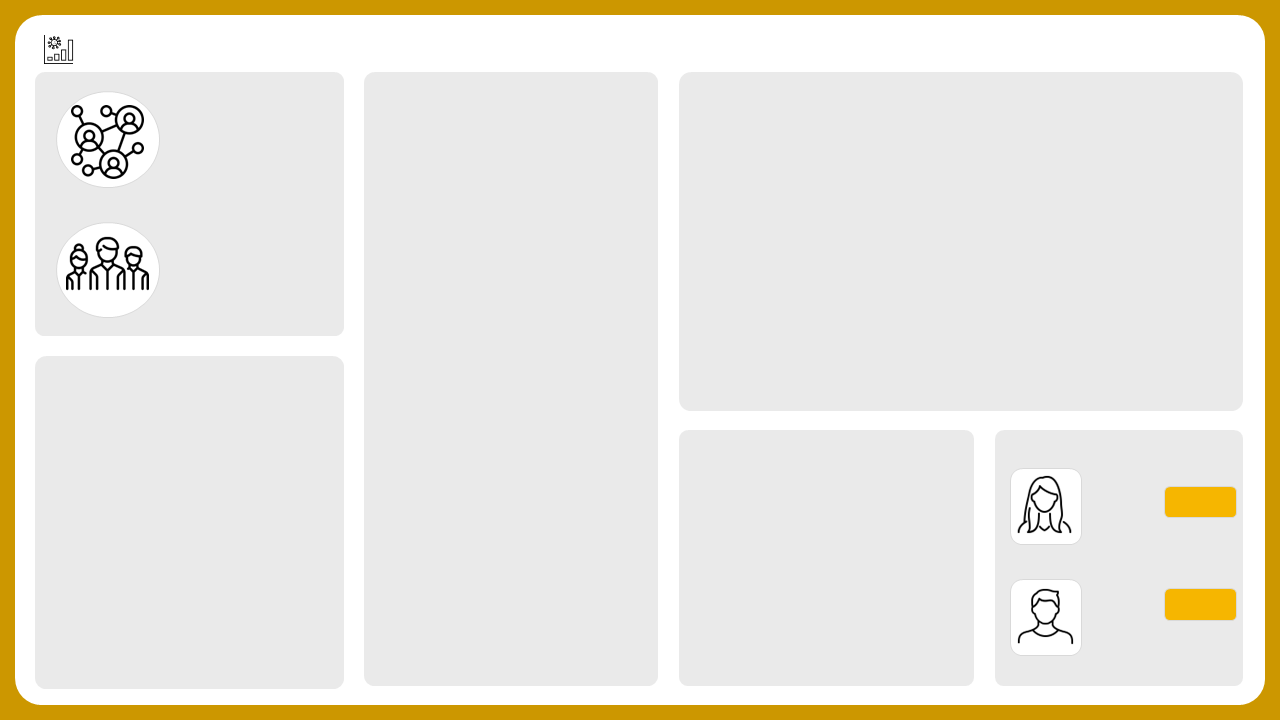

The dashboard page shown, as its layout file describes it:
{"tool":"powerbi","page":{"name":"CustomerPerformance Dashboard","canvas":[1280,720],"ordinal":0},"visuals":[{"type":"clusteredColumnChart","fields":{"Category":["DimCustomer.Age Category"],"Y":["All Measures.Total Revenue"]},"box":[690,141.4,548.6,257.1],"z":0},{"type":"card","fields":{"Values":["Customer Measures.Avg Caption"]},"box":[680,85,558.8,96.2],"z":1000},{"type":"textbox","box":[709.5,85.7,373,42.9],"z":2000},{"type":"donutChart","fields":{"Y":["Customer Measures.% CWC","Customer Measures.% Customer Without Children"]},"box":[407.8,74.4,190,151.1],"z":3000},{"type":"donutChart","fields":{"Y":["Customer Measures.% CWC","Customer Measures.% Customer Without Children"]},"box":[407.1,360,191.4,152.9],"z":4000},{"type":"card","fields":{"Values":["Customer Measures.% Customer Without Children"]},"box":[456.7,126.7,93.3,46.7],"z":5000},{"type":"card","fields":{"Values":["Customer Measures.% CWC"]},"box":[455.7,414.3,92.9,44.3],"z":6000},{"type":"textbox","box":[381.2,216.9,260,43.1],"z":7000},{"type":"textbox","box":[393.3,504.4,235.6,42.2],"z":8000},{"type":"card","fields":{"Values":["Customer Measures.Caption Customers with Children"]},"box":[363.8,224.4,295,150],"z":9000},{"type":"card","fields":{"Values":["Customer Measures.Caption Customers Without  Children"]},"box":[362.5,503.8,295,167.5],"z":10000},{"type":"clusteredBarChart","fields":{"Category":["DimCustomer.Customer Type"],"Y":["All Measures.Total Revenue"]},"box":[690,426.7,275,270],"z":11000},{"type":"clusteredBarChart","fields":{"Category":["DimCustomer.Full Name"],"Y":["Customer Measures.Dynamic customer"]},"box":[37.1,414.3,301.4,282.9],"z":12000},{"type":"slicer","fields":{"Values":["Dynamic Customers.Dynamic Customers"]},"box":[271.8,365.9,58.2,48.2],"z":13000},{"type":"card","fields":{"Values":["Customer Measures.%Female"]},"box":[1157.5,480,82.5,42.5],"z":14000},{"type":"card","fields":{"Values":["Customer Measures.%Male"]},"box":[1163.5,587.3,69.8,31.7],"z":15000},{"type":"card","fields":{"Values":["Customer Measures.Average Customer Age"]},"box":[204.3,120,77.1,62.9],"z":16000},{"type":"card","fields":{"Values":["Customer Measures.#Customers"]},"box":[198.6,245.7,88.6,54.3],"z":17000},{"type":"textbox","box":[187.1,81.4,142.9,70],"z":18000},{"type":"textbox","box":[188.6,202.9,108.6,70],"z":19000},{"type":"textbox","box":[1082.9,577.1,125.7,41.4],"z":20000},{"type":"textbox","box":[1082.9,465.7,112.9,37.1],"z":21000},{"type":"textbox","box":[40,360,187.1,41.4],"z":22000},{"type":"card","fields":{"Values":["Customer Measures.Title Top Customers"]},"box":[37.1,388.6,231.4,38.6],"z":23000},{"type":"card","fields":{"Values":["Customer Measures.female Revenue"]},"box":[1083.1,490.8,73.1,31.5],"z":24000},{"type":"card","fields":{"Values":["Customer Measures.Male Revenue"]},"box":[1083.1,602.3,73.1,30.8],"z":25000},{"type":"textbox","box":[81.7,20,373.3,41.7],"z":26000},{"type":"slicer","fields":{"Values":["DimGeography.Country"]},"box":[1029.1,30.9,210.9,61.8],"z":27000},{"type":"textbox","box":[1034.5,20,122.7,31.8],"z":28000},{"type":"textbox","box":[690,426.7,186.7,41.7],"z":29000},{"type":"textbox","box":[1010,426.7,223.3,38.3],"z":30000}]}

Visuals, with their boxes in screenshot pixels (x1, y1, x2, y2), scaled from the page's 1280x720 canvas onto the 1280x720 screenshot:
clusteredColumnChart - DimCustomer.Age Category x All Measures.Total Revenue: <bbox>690, 141, 1239, 398</bbox>
card - Customer Measures.Avg Caption: <bbox>680, 85, 1239, 181</bbox>
textbox: <bbox>710, 86, 1082, 129</bbox>
donutChart - Customer Measures.% CWC x Customer Measures.% Customer Without Children: <bbox>408, 74, 598, 226</bbox>
donutChart - Customer Measures.% CWC x Customer Measures.% Customer Without Children: <bbox>407, 360, 598, 513</bbox>
card - Customer Measures.% Customer Without Children: <bbox>457, 127, 550, 173</bbox>
card - Customer Measures.% CWC: <bbox>456, 414, 549, 459</bbox>
textbox: <bbox>381, 217, 641, 260</bbox>
textbox: <bbox>393, 504, 629, 547</bbox>
card - Customer Measures.Caption Customers with Children: <bbox>364, 224, 659, 374</bbox>
card - Customer Measures.Caption Customers Without  Children: <bbox>362, 504, 658, 671</bbox>
clusteredBarChart - DimCustomer.Customer Type x All Measures.Total Revenue: <bbox>690, 427, 965, 697</bbox>
clusteredBarChart - DimCustomer.Full Name x Customer Measures.Dynamic customer: <bbox>37, 414, 338, 697</bbox>
slicer - Dynamic Customers.Dynamic Customers: <bbox>272, 366, 330, 414</bbox>
card - Customer Measures.%Female: <bbox>1158, 480, 1240, 522</bbox>
card - Customer Measures.%Male: <bbox>1164, 587, 1233, 619</bbox>
card - Customer Measures.Average Customer Age: <bbox>204, 120, 281, 183</bbox>
card - Customer Measures.#Customers: <bbox>199, 246, 287, 300</bbox>
textbox: <bbox>187, 81, 330, 151</bbox>
textbox: <bbox>189, 203, 297, 273</bbox>
textbox: <bbox>1083, 577, 1209, 618</bbox>
textbox: <bbox>1083, 466, 1196, 503</bbox>
textbox: <bbox>40, 360, 227, 401</bbox>
card - Customer Measures.Title Top Customers: <bbox>37, 389, 268, 427</bbox>
card - Customer Measures.female Revenue: <bbox>1083, 491, 1156, 522</bbox>
card - Customer Measures.Male Revenue: <bbox>1083, 602, 1156, 633</bbox>
textbox: <bbox>82, 20, 455, 62</bbox>
slicer - DimGeography.Country: <bbox>1029, 31, 1240, 93</bbox>
textbox: <bbox>1034, 20, 1157, 52</bbox>
textbox: <bbox>690, 427, 877, 468</bbox>
textbox: <bbox>1010, 427, 1233, 465</bbox>
